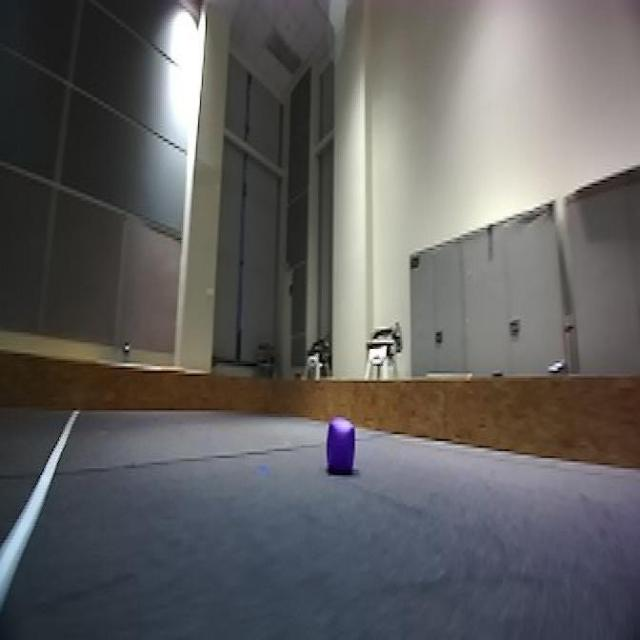frc_cube: (323, 417, 359, 478)
